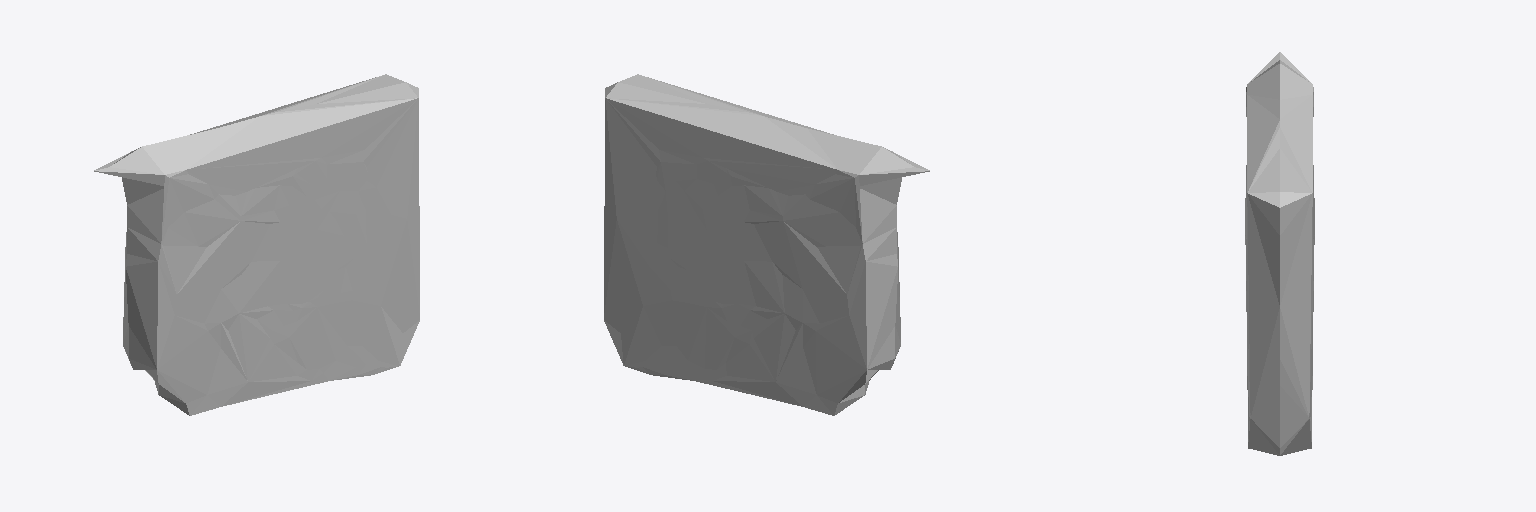
The model's file is fabercastel.obj.
The picture shows the model from 3 angles: view 1: azimuth 30°, elevation 25°; view 2: azimuth 150°, elevation 25°; view 3: azimuth 270°, elevation 25°; orthographic projection.
Visible parts, largest first — view 1: grp1; view 2: grp1; view 3: grp1.
Boxes of the visible parts, <box> form: grp1: <box>94,74,419,415</box>; grp1: <box>604,74,929,415</box>; grp1: <box>1245,52,1314,455</box>.
Size of the model in its own units: 218 by 177 by 40.36.